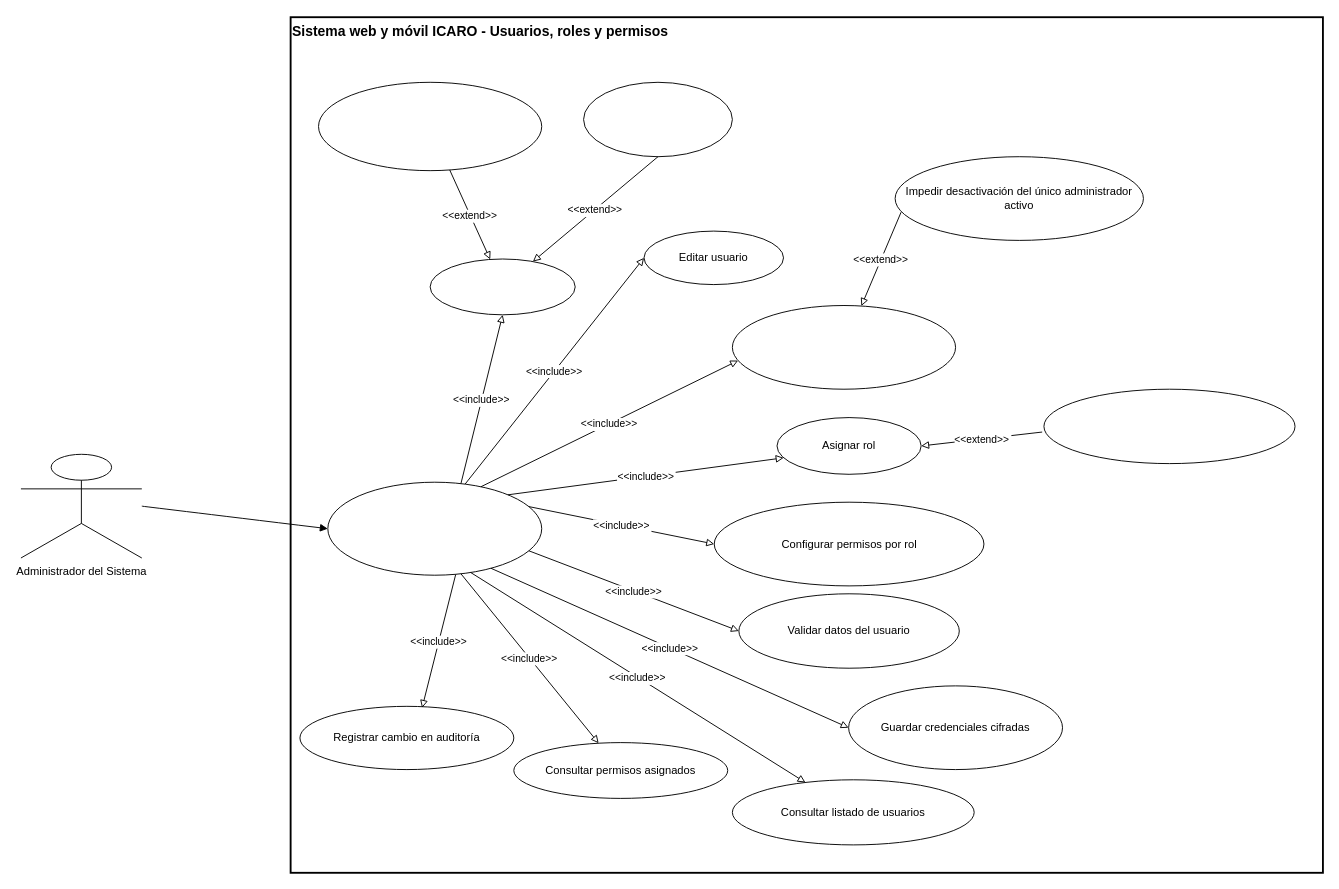
The diagram is 1339 pixels wide and 889 high, and some of its shapes have lost their labels. Here are the shapes that lost their labels. From the top down, the box of each, then its label:
(318, 81, 542, 171): Bloquear creación por datos incompletos
(583, 81, 732, 157): Rechazar correo o identificación duplicada
(429, 258, 575, 315): Crear usuario
(731, 305, 956, 389): Activar o desactivar usuario
(1043, 388, 1295, 464): Denegar asignación de rol no permitido
(327, 481, 542, 575): Gestionar usuarios, roles y permisos
